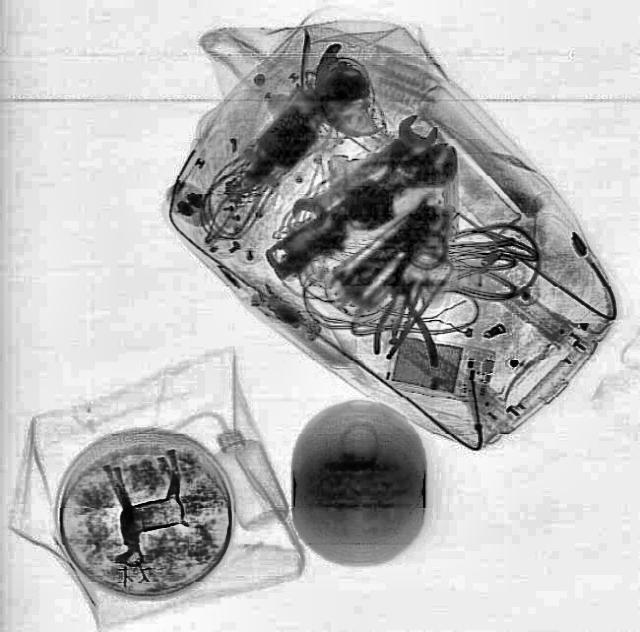Pliers: (370, 276, 438, 366)
Wrench: (284, 108, 442, 234)
